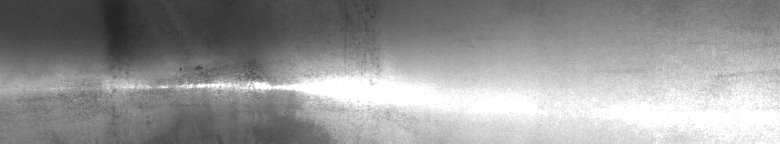ke: (17, 8, 414, 136)
